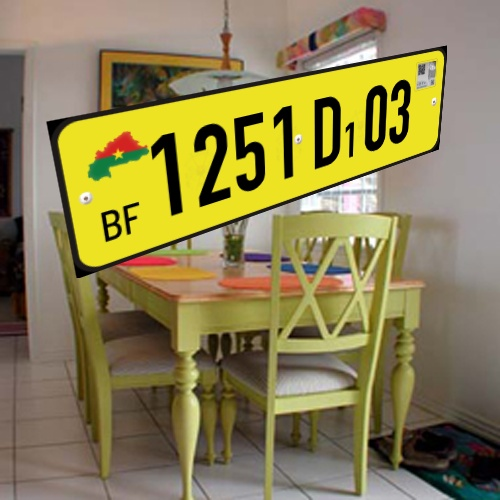plate: (30, 37, 463, 281)
